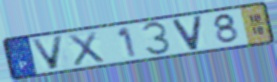1: (115, 26, 138, 60)
3: (140, 21, 173, 57)
8: (212, 13, 242, 45)
V: (29, 34, 66, 71), (170, 14, 204, 52)
X: (66, 30, 107, 68)
